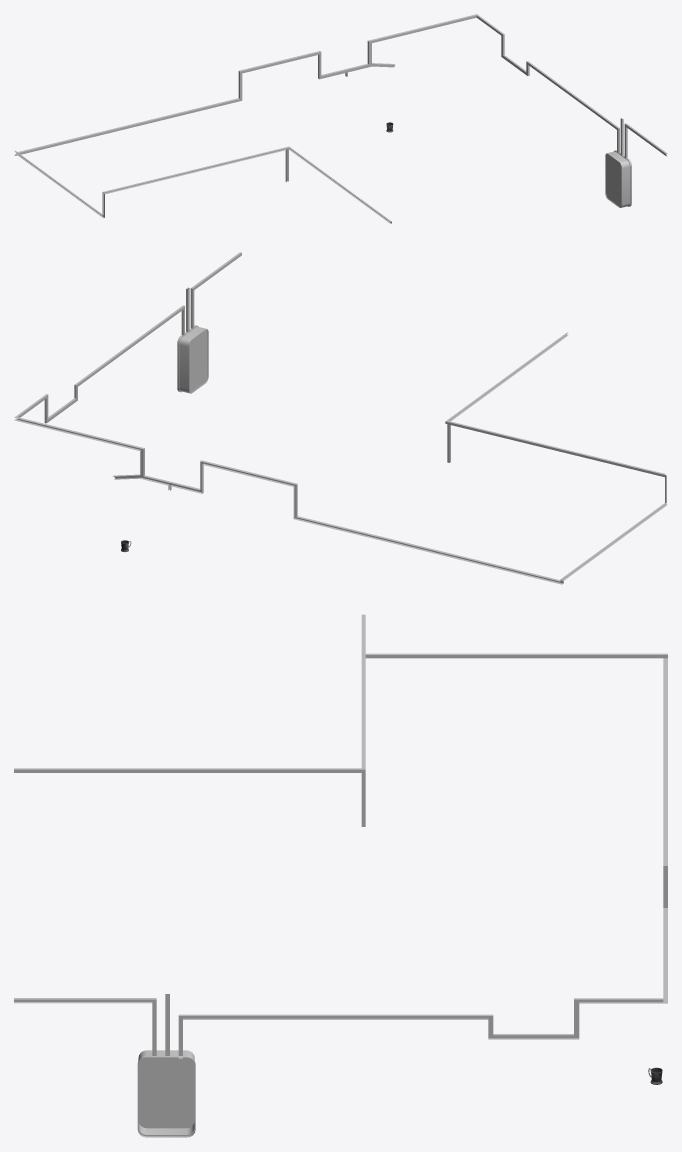
The picture shows the model from 3 angles, top to bottom: view 1: azimuth 30°, elevation 25°; view 2: azimuth 150°, elevation 25°; view 3: azimuth 270°, elevation 25°; orthographic projection. The views are drawn at different scales.
Visible parts, largest first — view 1: Cube.074, Cube.075, Cube.058; view 2: Cube.074, Cube.075, Cube.058; view 3: Cube.074, Cube.075, Cube.058.
Boxes of the visible parts, bbox=[...] form: Cube.074: bbox=[14, 14, 619, 223]; Cube.075: bbox=[605, 150, 631, 207]; Cube.058: bbox=[620, 118, 667, 158]; Cube.074: bbox=[14, 305, 667, 584]; Cube.075: bbox=[177, 325, 208, 393]; Cube.058: bbox=[186, 252, 241, 331]; Cube.074: bbox=[14, 614, 667, 1058]; Cube.075: bbox=[137, 1050, 195, 1137]; Cube.058: bbox=[14, 994, 169, 1055].
Bounding box in the file's own units: 700 × 137 × 500.
